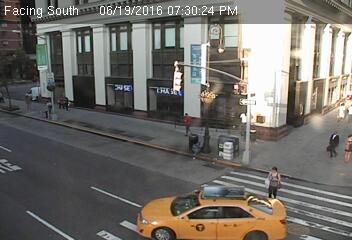neg: (30, 184, 55, 217), (168, 58, 192, 90), (289, 30, 311, 59), (319, 184, 340, 211), (255, 37, 275, 65), (208, 195, 228, 223), (30, 40, 50, 66), (294, 77, 314, 103), (37, 88, 57, 113), (111, 71, 130, 97), (95, 151, 114, 176), (227, 54, 245, 78), (241, 91, 259, 115), (223, 132, 241, 156), (26, 131, 44, 155), (159, 165, 176, 188), (327, 80, 344, 103), (164, 208, 180, 229)
pos: (260, 163, 288, 200), (321, 125, 345, 157), (180, 111, 197, 134)
